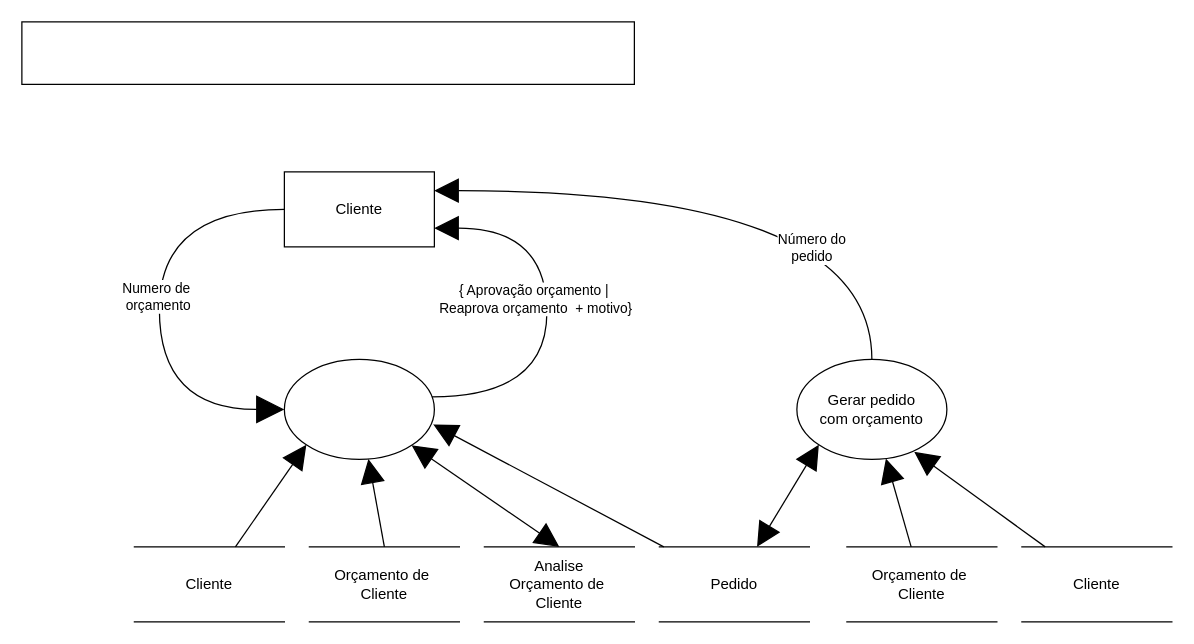
The diagram is 1194 pixels wide and 644 high, and some of its shapes have lost their labels. The shapes that lost their labels are listed below. From the top down, each one's centre as x and y in pixels, then its label:
the point at 327,52: DFD - Tratar Pedido sob medida
the point at 358,408: Analisar orçamento
